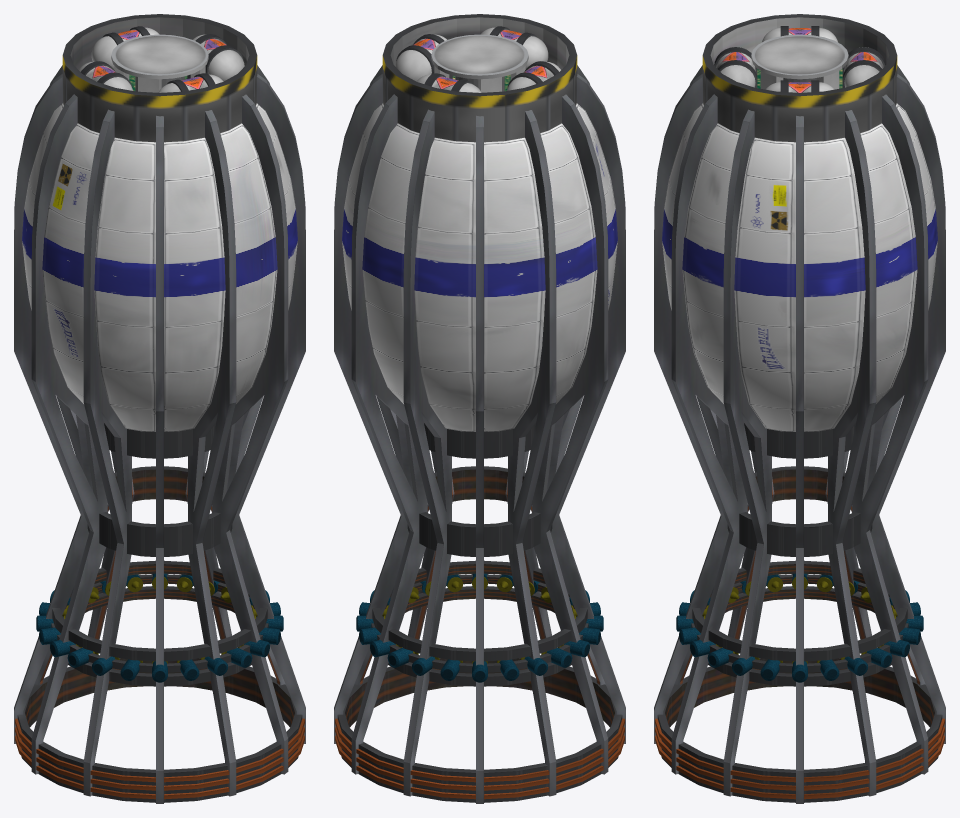
The model's file is Supernova.FBX.
3 renders of one model, left to right at view 1: azimuth 30°, elevation 25°; view 2: azimuth 150°, elevation 25°; view 3: azimuth 270°, elevation 25°, orthographic.
Visible parts, largest first — view 1: FusionRector, Support Trunk, MagNozzle009, MagNozzle001, MagNozzle012, MagNozzle010, OuterMagRing, MagNozzle008, MagNozzle002, MagNozzle011, InnerMagRing, MiddleMagRing002 (+14 smaller); view 2: FusionRector, Support Trunk, MagNozzle001, MagNozzle005, MagNozzle002, MagNozzle004, OuterMagRing, MagNozzle012, MagNozzle006, MagNozzle003, InnerMagRing, MiddleMagRing002 (+14 smaller); view 3: FusionRector, Support Trunk, MagNozzle005, MagNozzle009, MagNozzle006, MagNozzle008, OuterMagRing, MagNozzle004, MagNozzle010, MagNozzle007, InnerMagRing, MiddleMagRing002 (+13 smaller).
Part boxes in pixels (x1=…): FusionRector: x1=22, y1=103, x2=297, y2=431; Support Trunk: x1=62, y1=14, x2=257, y2=142; MagNozzle009: x1=212, y1=94, x2=288, y2=774; MagNozzle001: x1=31, y1=94, x2=107, y2=774; MagNozzle012: x1=83, y1=109, x2=131, y2=796; MagNozzle010: x1=188, y1=110, x2=236, y2=796; OuterMagRing: x1=17, y1=658, x2=302, y2=802; MagNozzle008: x1=226, y1=74, x2=305, y2=743; MagNozzle002: x1=14, y1=74, x2=93, y2=743; MagNozzle011: x1=156, y1=115, x2=163, y2=803; InnerMagRing: x1=87, y1=466, x2=232, y2=556; MiddleMagRing002: x1=52, y1=560, x2=267, y2=661; FusionRector: x1=342, y1=103, x2=617, y2=431; Support Trunk: x1=382, y1=14, x2=577, y2=142; MagNozzle001: x1=532, y1=94, x2=608, y2=774; MagNozzle005: x1=351, y1=94, x2=427, y2=774; MagNozzle002: x1=508, y1=110, x2=556, y2=796; MagNozzle004: x1=403, y1=109, x2=451, y2=796; OuterMagRing: x1=337, y1=658, x2=622, y2=802; MagNozzle012: x1=546, y1=74, x2=625, y2=743; MagNozzle006: x1=334, y1=74, x2=413, y2=743; MagNozzle003: x1=476, y1=115, x2=483, y2=803; InnerMagRing: x1=407, y1=466, x2=552, y2=556; MiddleMagRing002: x1=372, y1=560, x2=587, y2=661; FusionRector: x1=662, y1=103, x2=937, y2=431; Support Trunk: x1=702, y1=14, x2=897, y2=142; MagNozzle005: x1=852, y1=94, x2=928, y2=774; MagNozzle009: x1=671, y1=94, x2=747, y2=774; MagNozzle006: x1=828, y1=110, x2=876, y2=796; MagNozzle008: x1=723, y1=109, x2=771, y2=796; OuterMagRing: x1=657, y1=658, x2=942, y2=802; MagNozzle004: x1=866, y1=74, x2=945, y2=743; MagNozzle010: x1=654, y1=74, x2=733, y2=743; MagNozzle007: x1=796, y1=115, x2=803, y2=803; InnerMagRing: x1=727, y1=466, x2=872, y2=556; MiddleMagRing002: x1=692, y1=560, x2=907, y2=661.
Size of what is drawn, in the model's own units: 3.73 by 3.73 by 9.7.
1 material, 1 textured.
